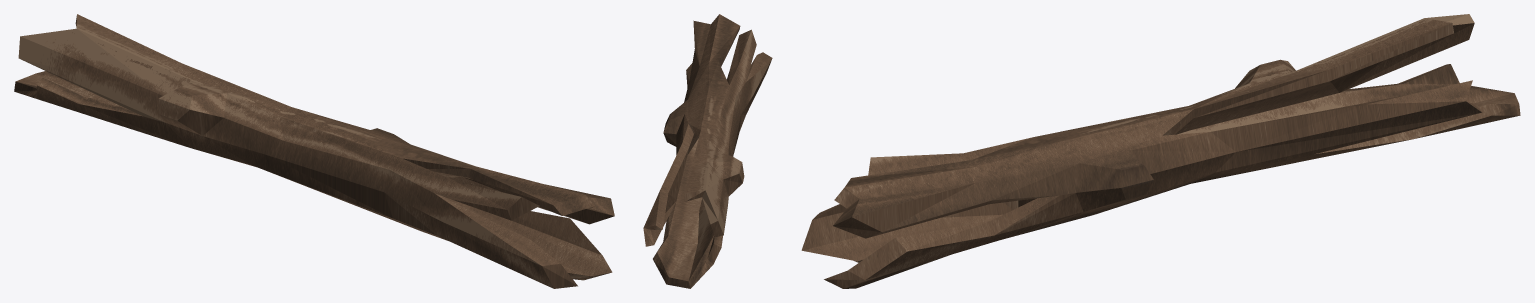
Rendered from Tree02.fbx.
3 views of the same model, side by side, from view 1: azimuth 30°, elevation 25°; view 2: azimuth 150°, elevation 25°; view 3: azimuth 270°, elevation 25° (orthographic). The views are drawn at different scales.
Parts seen in each view (by area): view 1: Tree02; view 2: Tree02; view 3: Tree02.
Boxes of the visible parts, left/top/right/bottom form: Tree02: left=14, top=14, right=614, bottom=288; Tree02: left=643, top=14, right=772, bottom=288; Tree02: left=801, top=14, right=1520, bottom=288.
Bounding box in the file's own units: 123 × 47.09 × 221.
